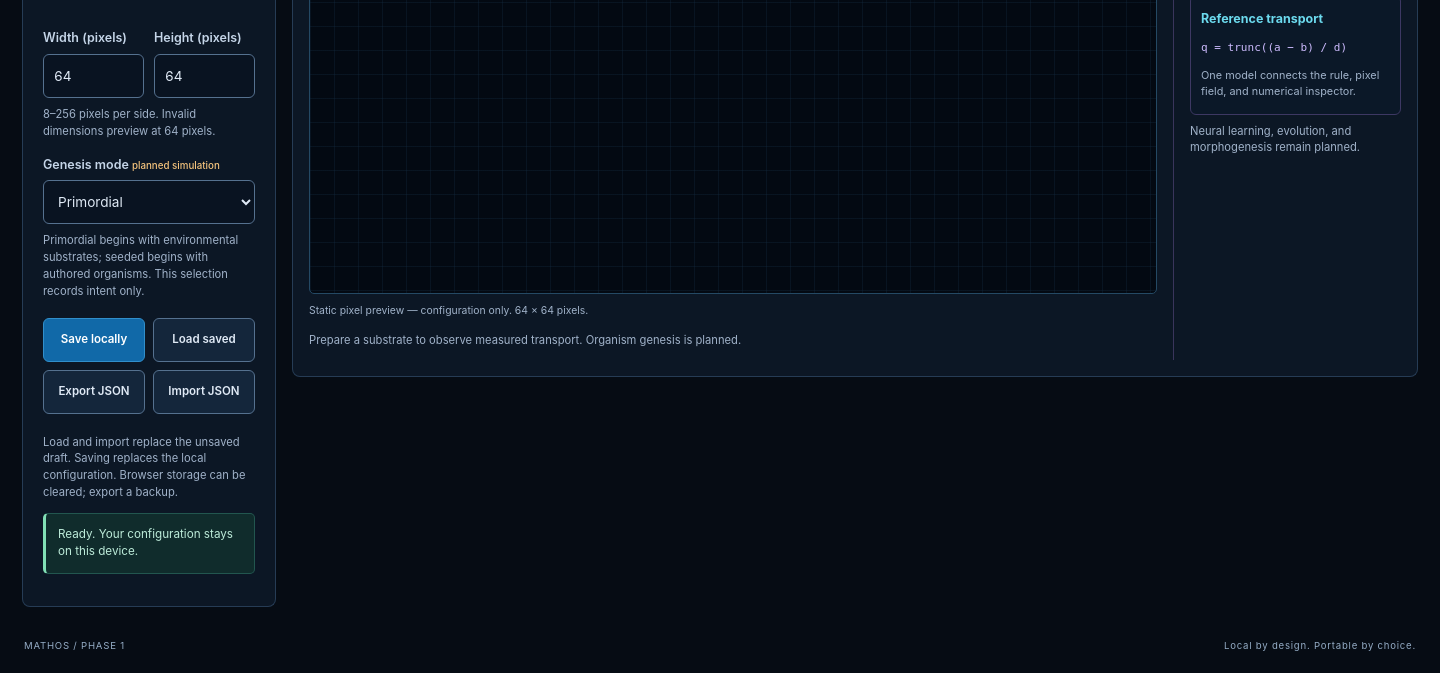
Test: configuration workflow › keeps the draft when saved data is corrupt or storage is inaccessible
(page scrolled)
Click the button "Load saved" at (204, 340), box x1=153 y1=318 x2=255 y2=362
(page scrolled)
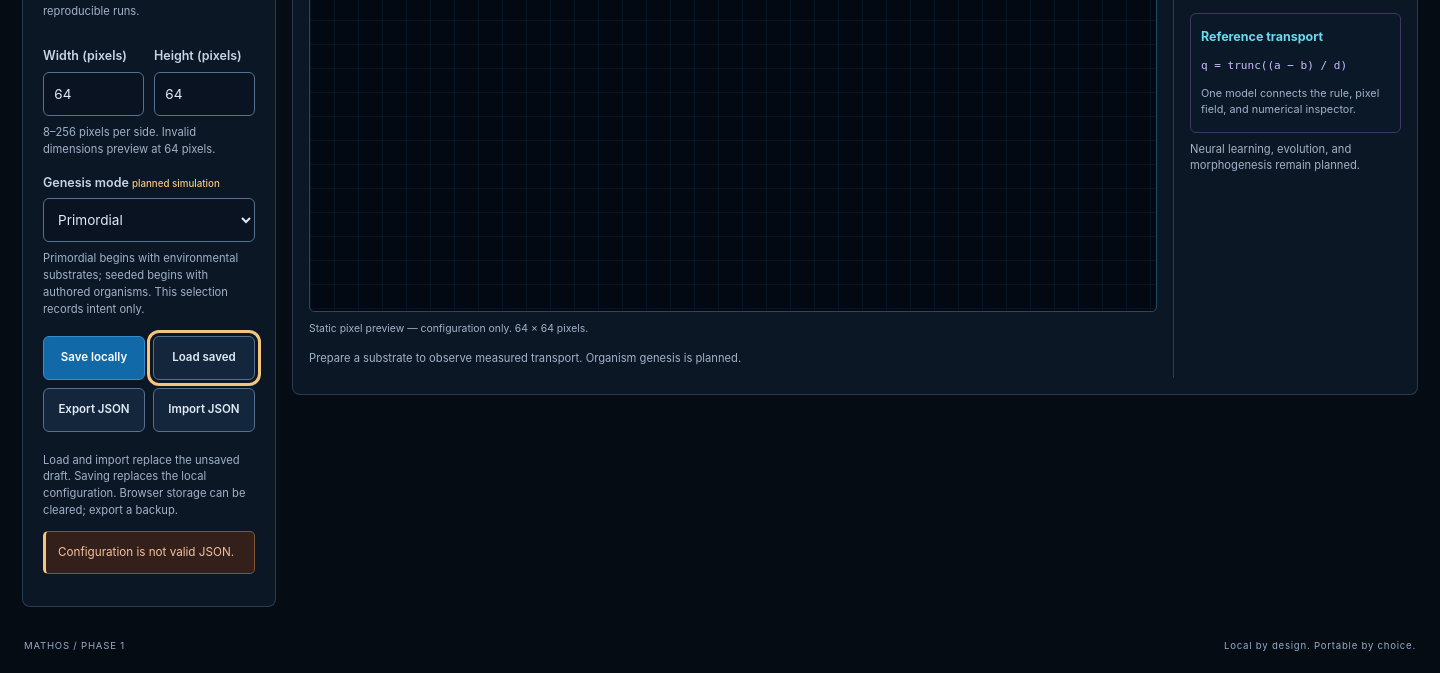
Result: the message shows "not valid JSON" at x1=58 y1=545 x2=234 y2=559
Click the button "Save locally" at (94, 358), box x1=43 y1=336 x2=145 y2=380
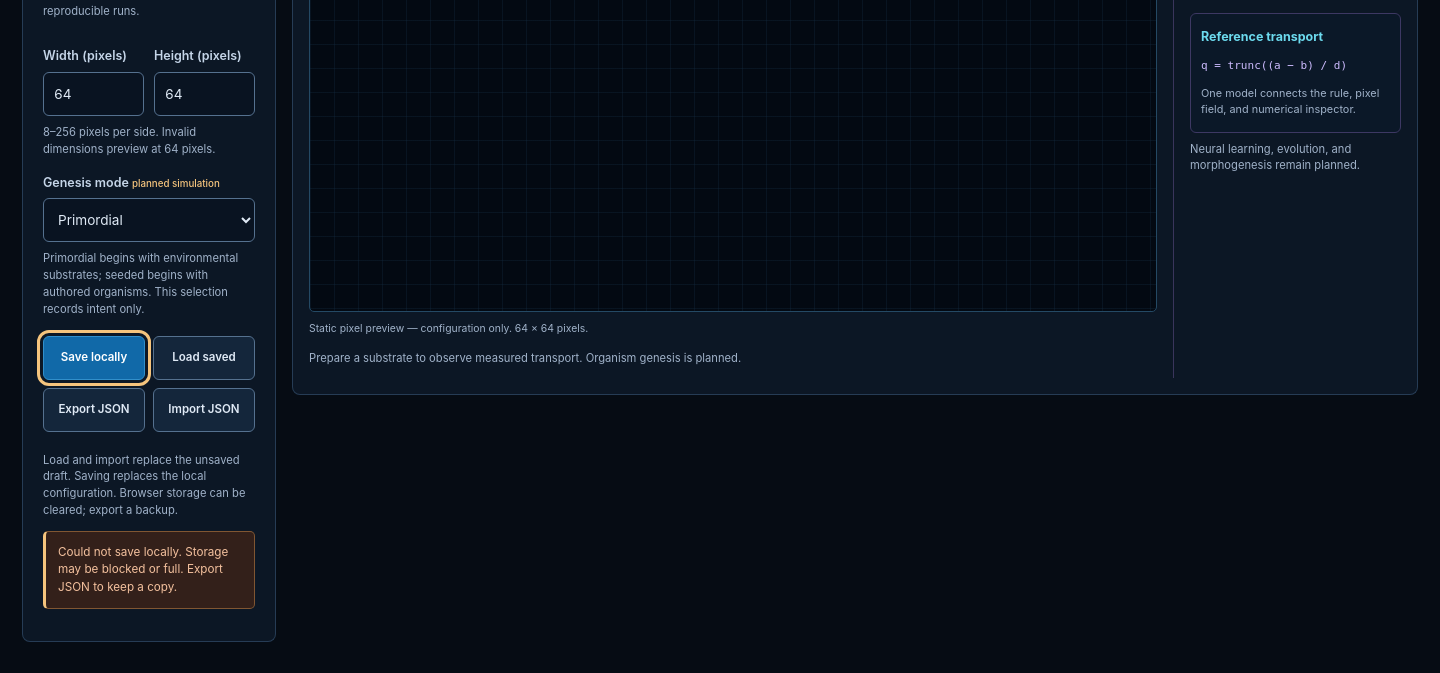
Result: the message shows "Export JSON" at x1=58 y1=545 x2=228 y2=594
